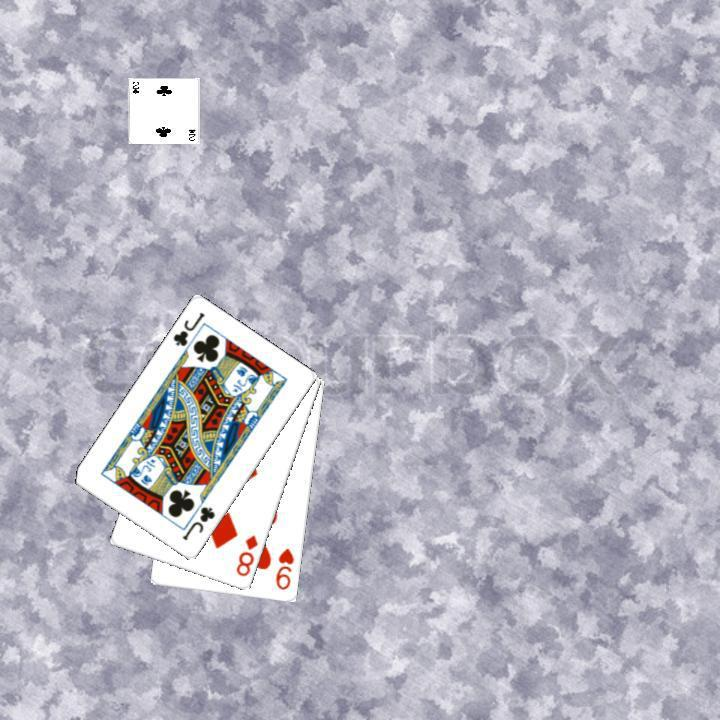8: (232, 531, 260, 579)
9: (272, 544, 296, 592)
J: (178, 502, 217, 543), (168, 308, 207, 349)
